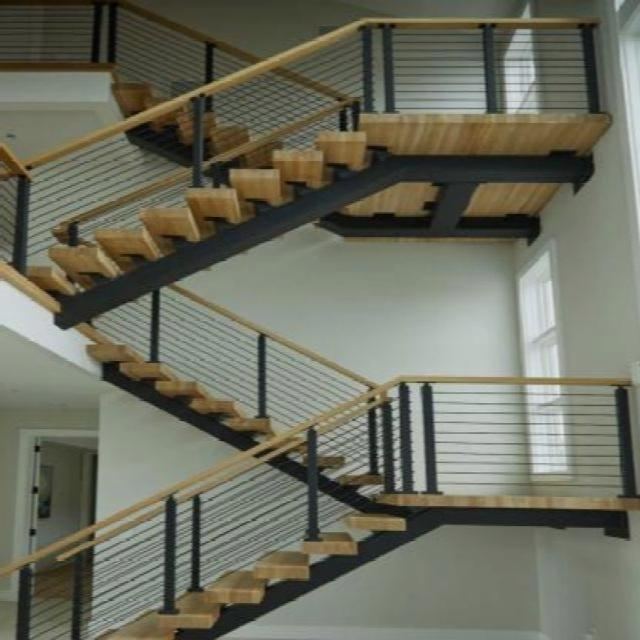stair: (0, 334, 637, 638), (31, 31, 462, 312)
